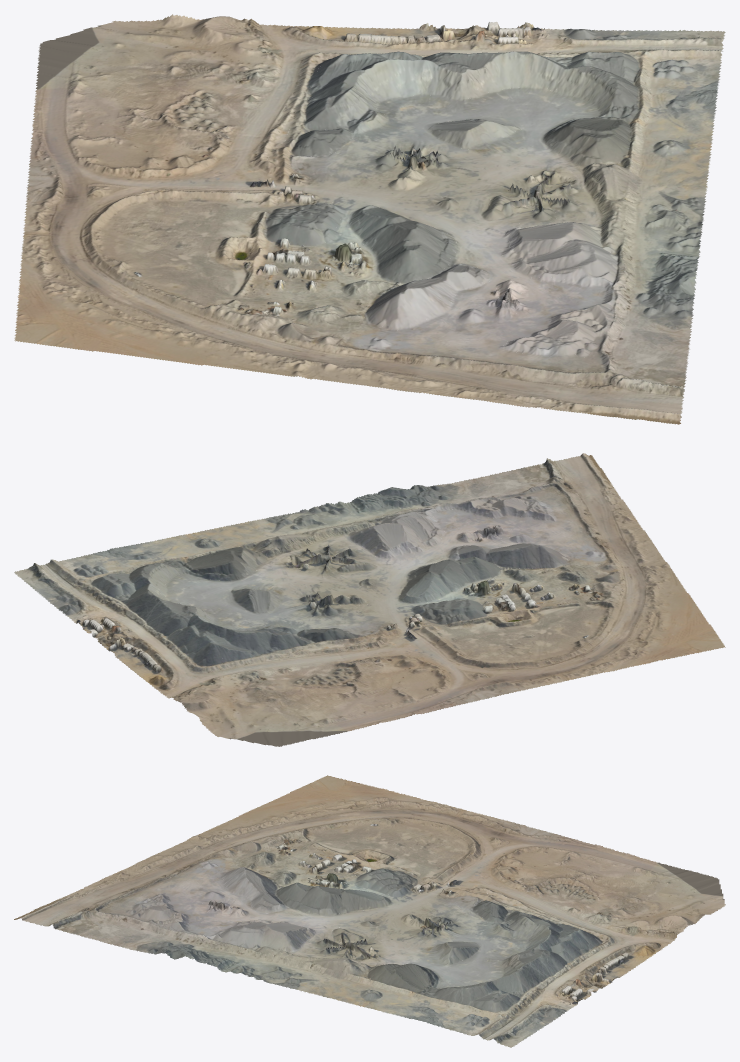
File: survey-e1.glb
The picture shows the model from 3 angles, top to bottom: view 1: azimuth 30°, elevation 25°; view 2: azimuth 150°, elevation 25°; view 3: azimuth 270°, elevation 25°; orthographic projection. The views are drawn at different scales.
Parts seen in each view (by area): view 1: Terrain_e1; view 2: Terrain_e1; view 3: Terrain_e1.
Boxes of the visible parts, x1,y1,x2,y2 form: Terrain_e1: [14, 14, 725, 424]; Terrain_e1: [14, 453, 725, 746]; Terrain_e1: [14, 775, 725, 1047].
Size of the model in its own units: 487 by 20.07 by 539.
1 material, 1 textured.
